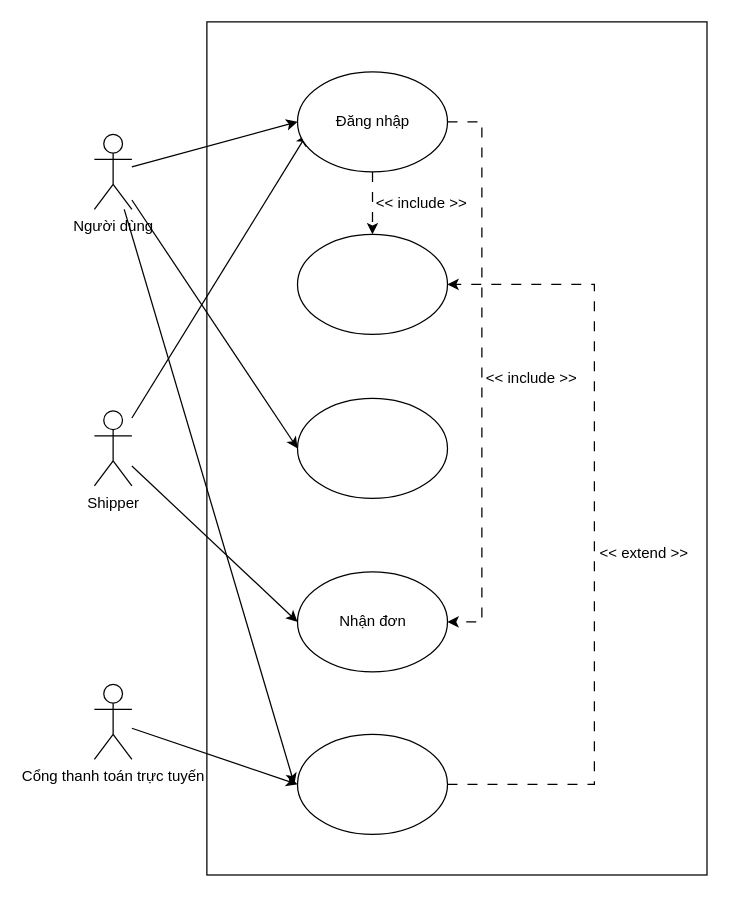
This 729x898 diagram has some shape labels left out. The centre of each missing label's shape, as x and y in pixels:
"Thanh toán" goes at (x=372, y=783).
"Tìm kiếm sản phẩm" goes at (x=372, y=447).
"Đặt hàng" goes at (x=372, y=283).
